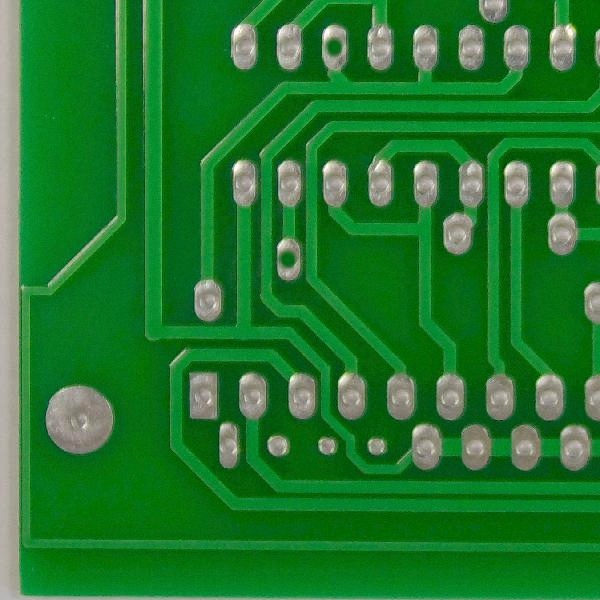missing_hole: (276, 243, 302, 279), (320, 33, 345, 64)
